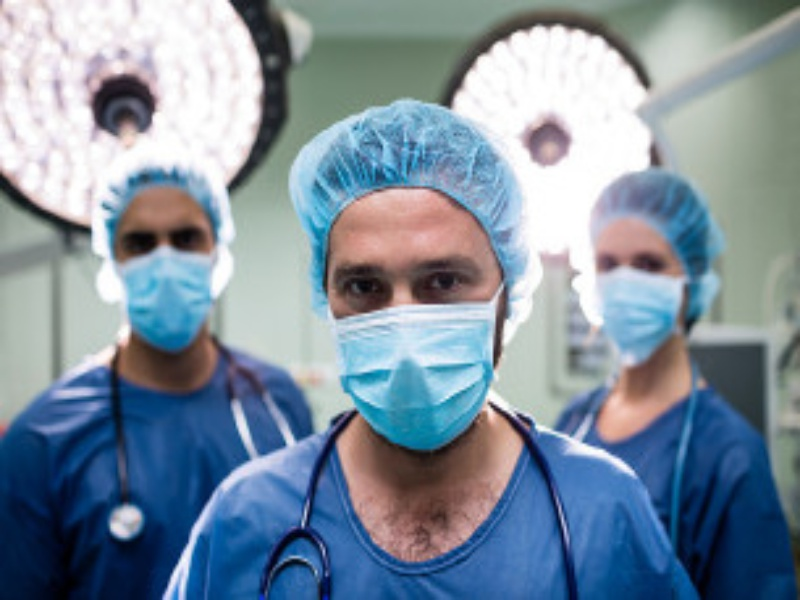mask: (292, 97, 535, 456), (571, 157, 729, 371), (92, 137, 248, 347)
